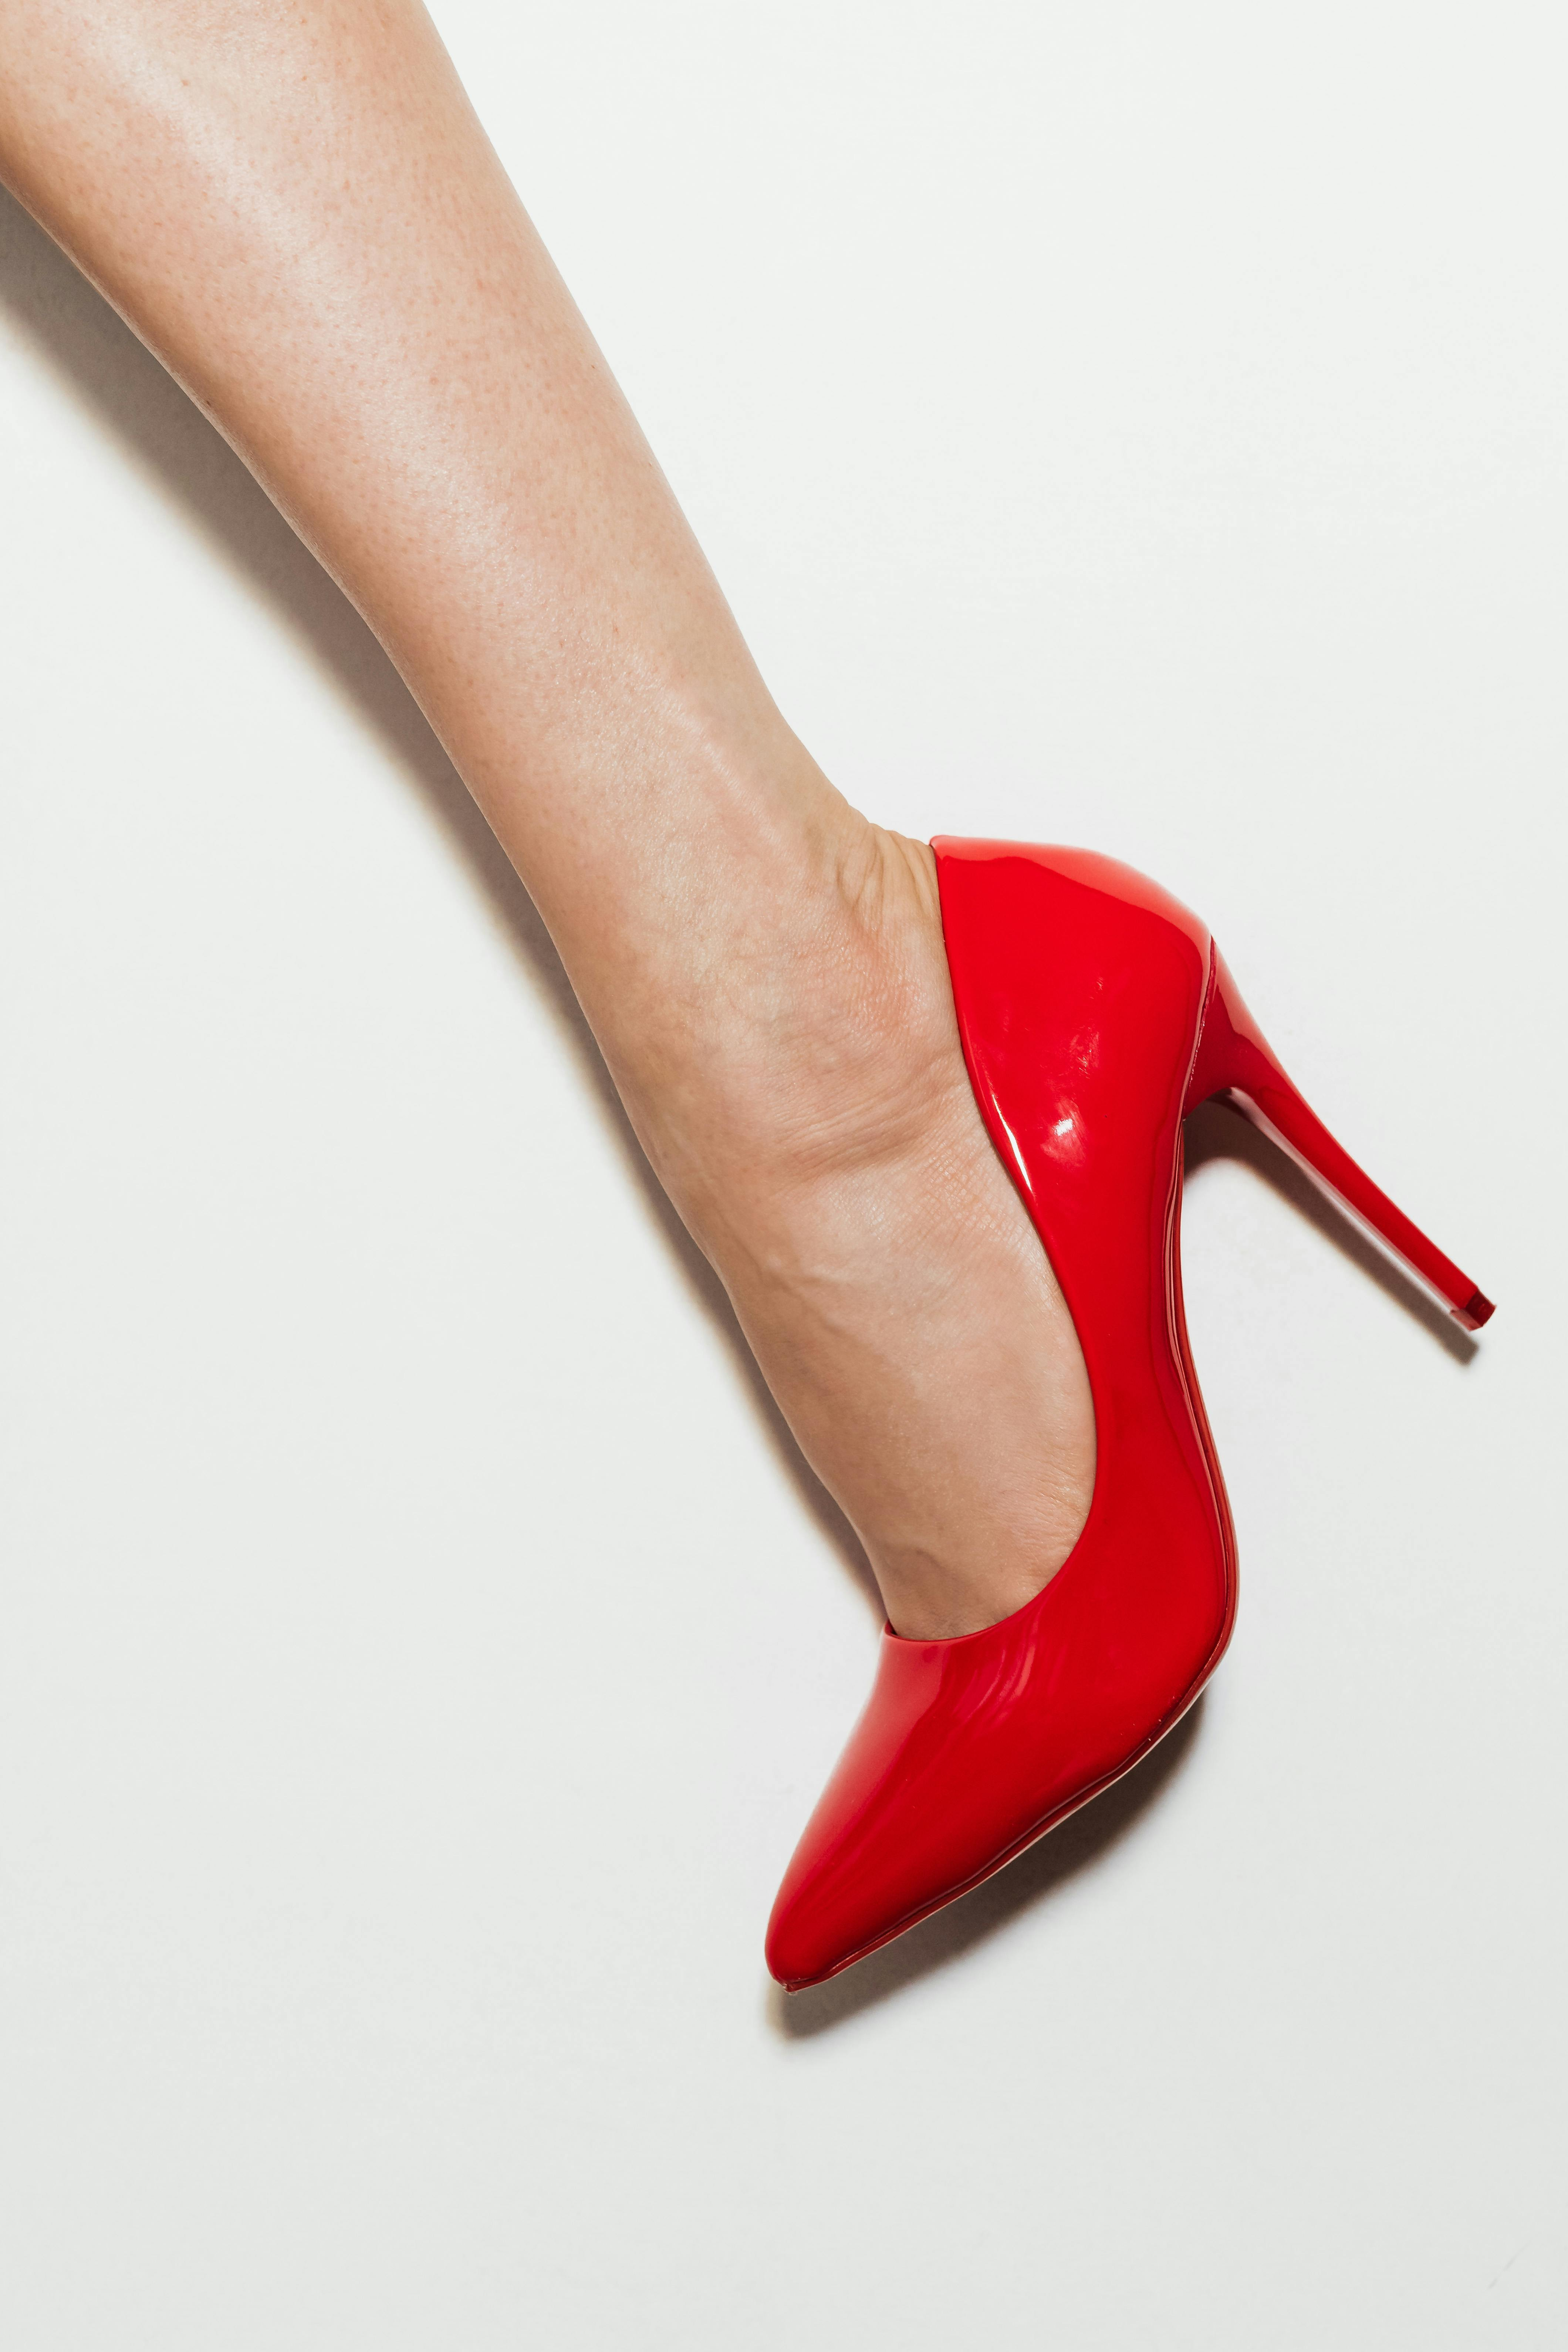Footwear: (556, 770, 1507, 2007)
